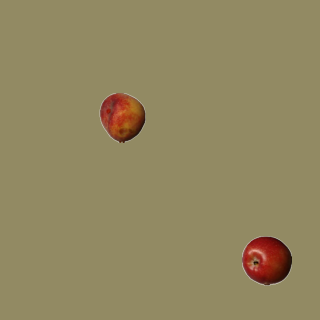Apple Braeburn: (241, 235, 291, 285)
Peach: (97, 92, 147, 142)
